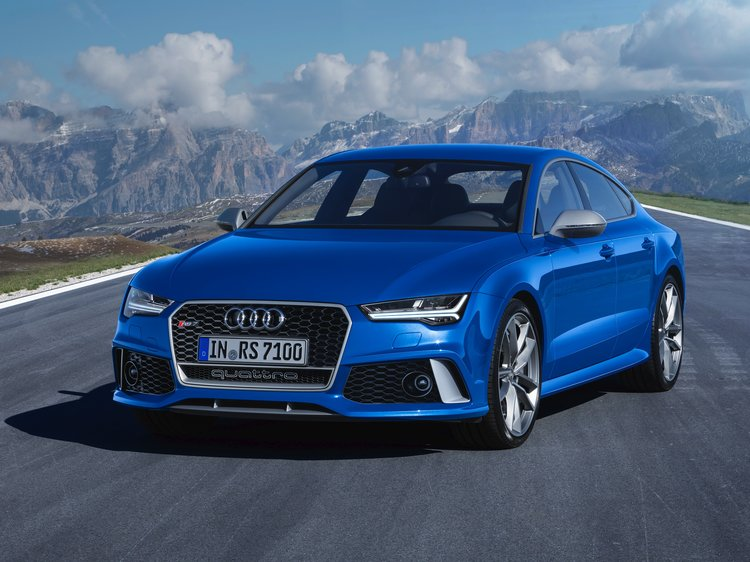audi: (214, 305, 293, 334)
